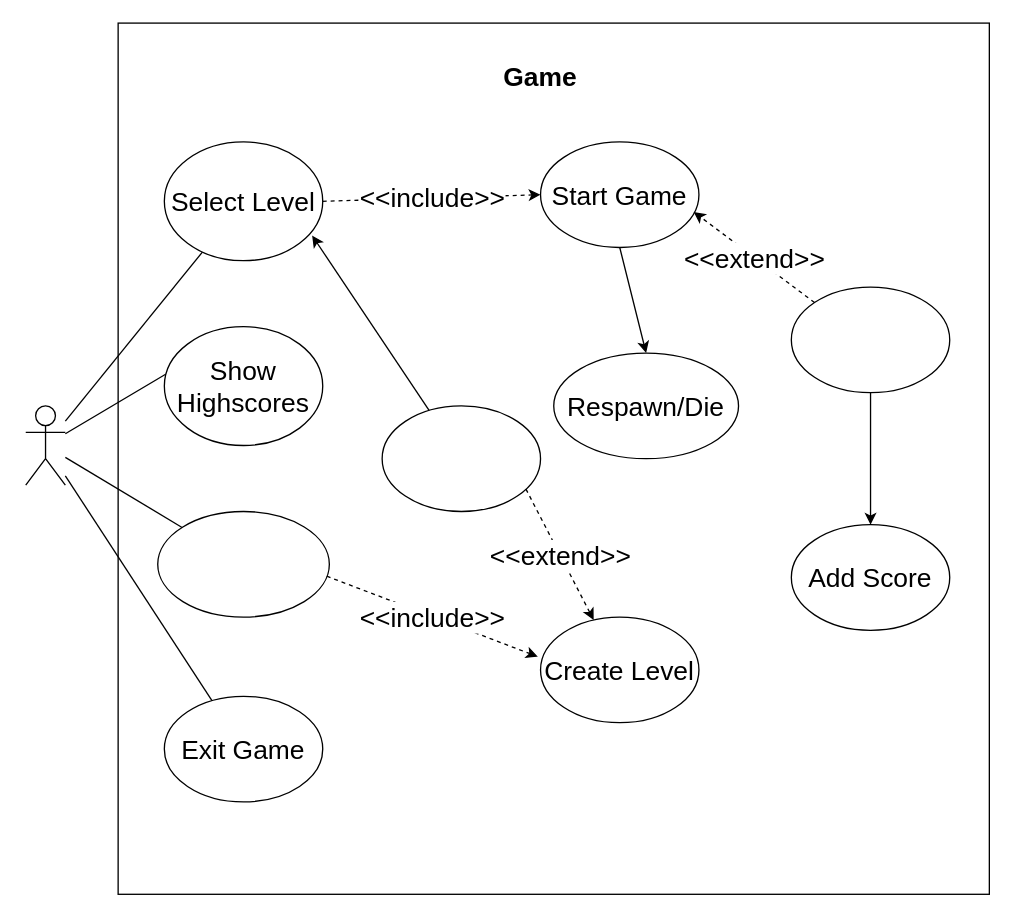
This 1012x917 diagram has some shape labels left out. The shapes that lost their labels are listed below. From the top down, each one's centre as x and y in pixels, then its label:
the point at 870,339: Collect Coins
the point at 44,445: Player
the point at 461,458: Save Level
the point at 242,563: Start Level Editor
